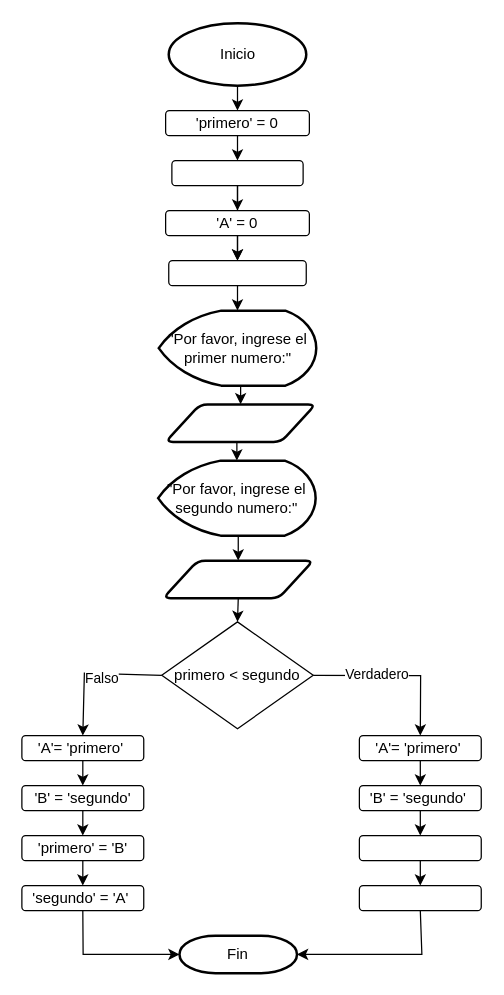
Image size: 504x995. Some labels were removed from this diagram. Here are the shapes that lost their labels. From the top down, the box of each, then its label:
(171, 159, 303, 186): 'segundo' = 0
(168, 259, 306, 286): 'B' = 0
(164, 402, 316, 442): 'primero'
(161, 559, 314, 599): 'segundo'
(358, 834, 481, 861): 'primero' = 'A'
(358, 884, 481, 911): 'segundo' = 'B'
